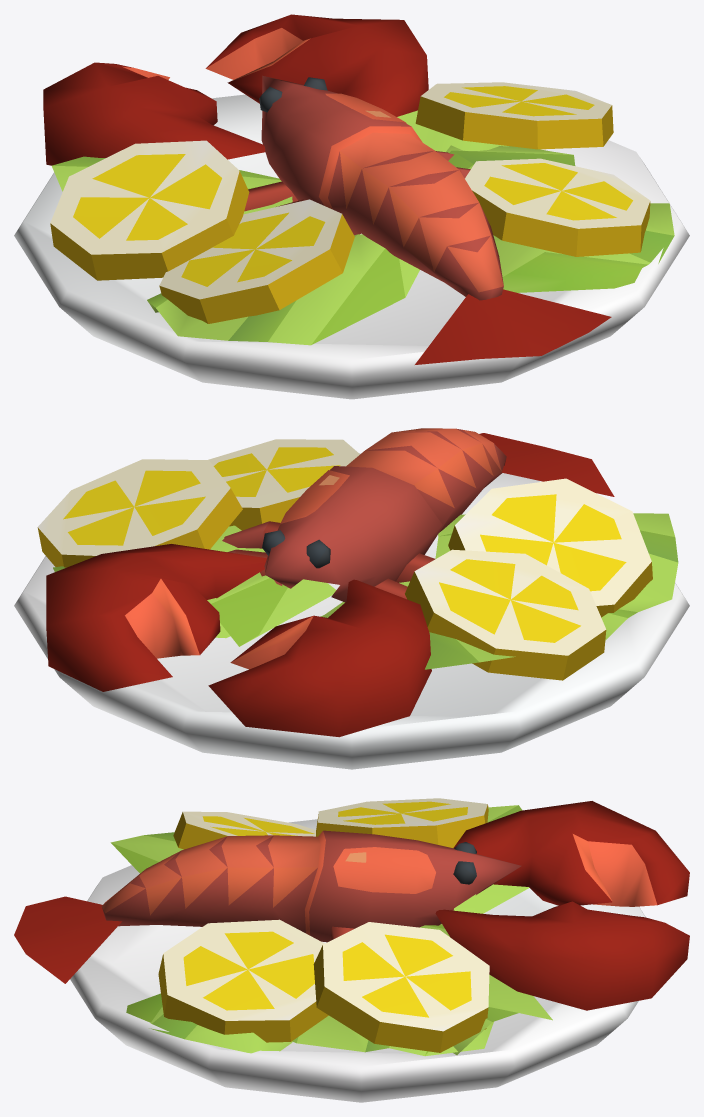
Rendered from 97_Food_Model.fbx.
The picture shows the model from 3 angles, top to bottom: view 1: azimuth 30°, elevation 25°; view 2: azimuth 150°, elevation 25°; view 3: azimuth 270°, elevation 25°; orthographic projection. The views are drawn at different scales.
Visible parts, largest first — view 1: 97_Food_Model; view 2: 97_Food_Model; view 3: 97_Food_Model.
Boxes of the visible parts, x1,y1,x2,y2 form: 97_Food_Model: (14, 14, 689, 399); 97_Food_Model: (14, 428, 689, 769); 97_Food_Model: (14, 798, 689, 1102).
Size of the model in its own units: 144 by 37.95 by 158.
